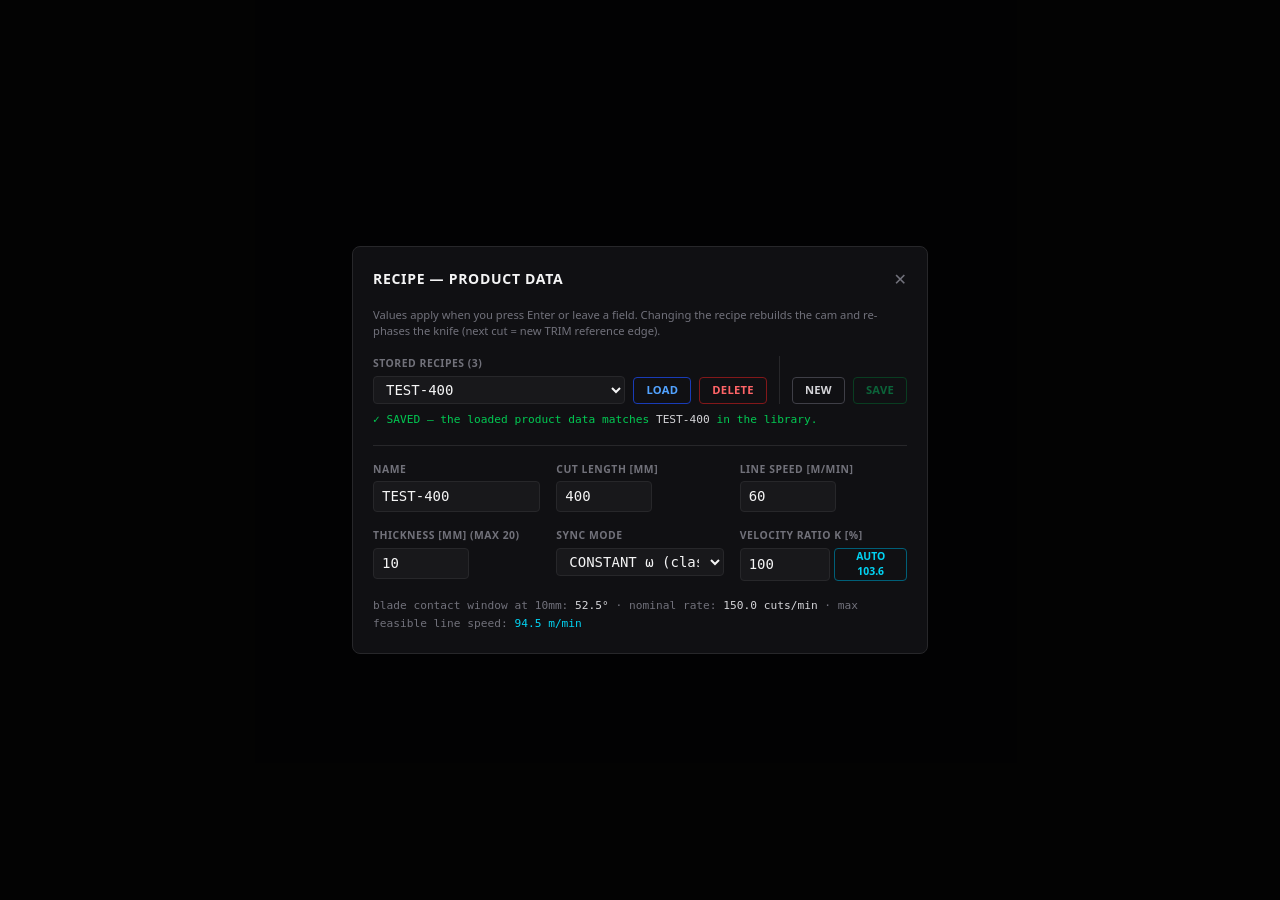
Scenario: recipe editor — the library › NEW twice does not overwrite the first one
The width and height of the screenshot is (1280, 900).
Click the button "New" at (818,390), box [792,377,845,404]
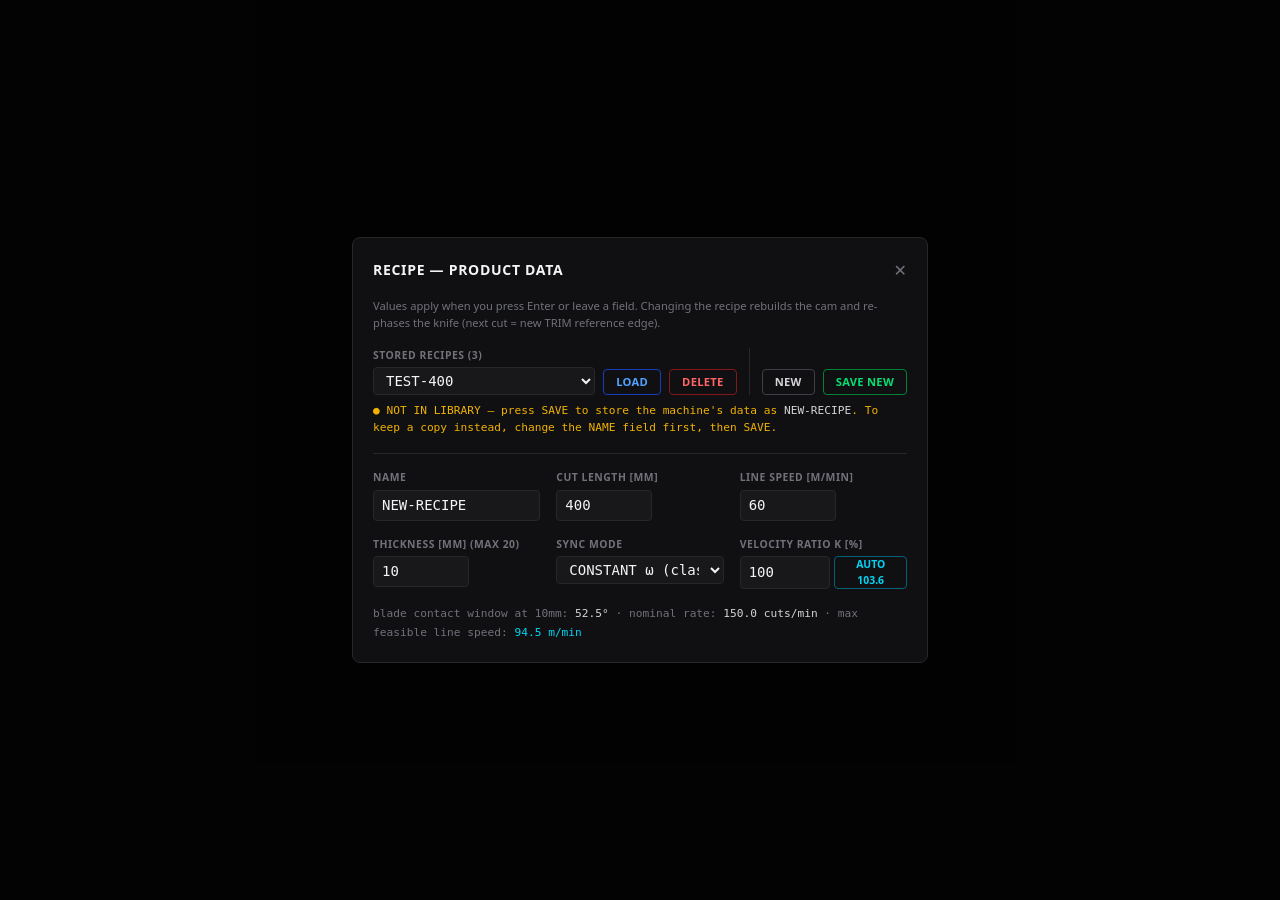
Click the button "Save new" at (865,382), box [823,369,907,395]
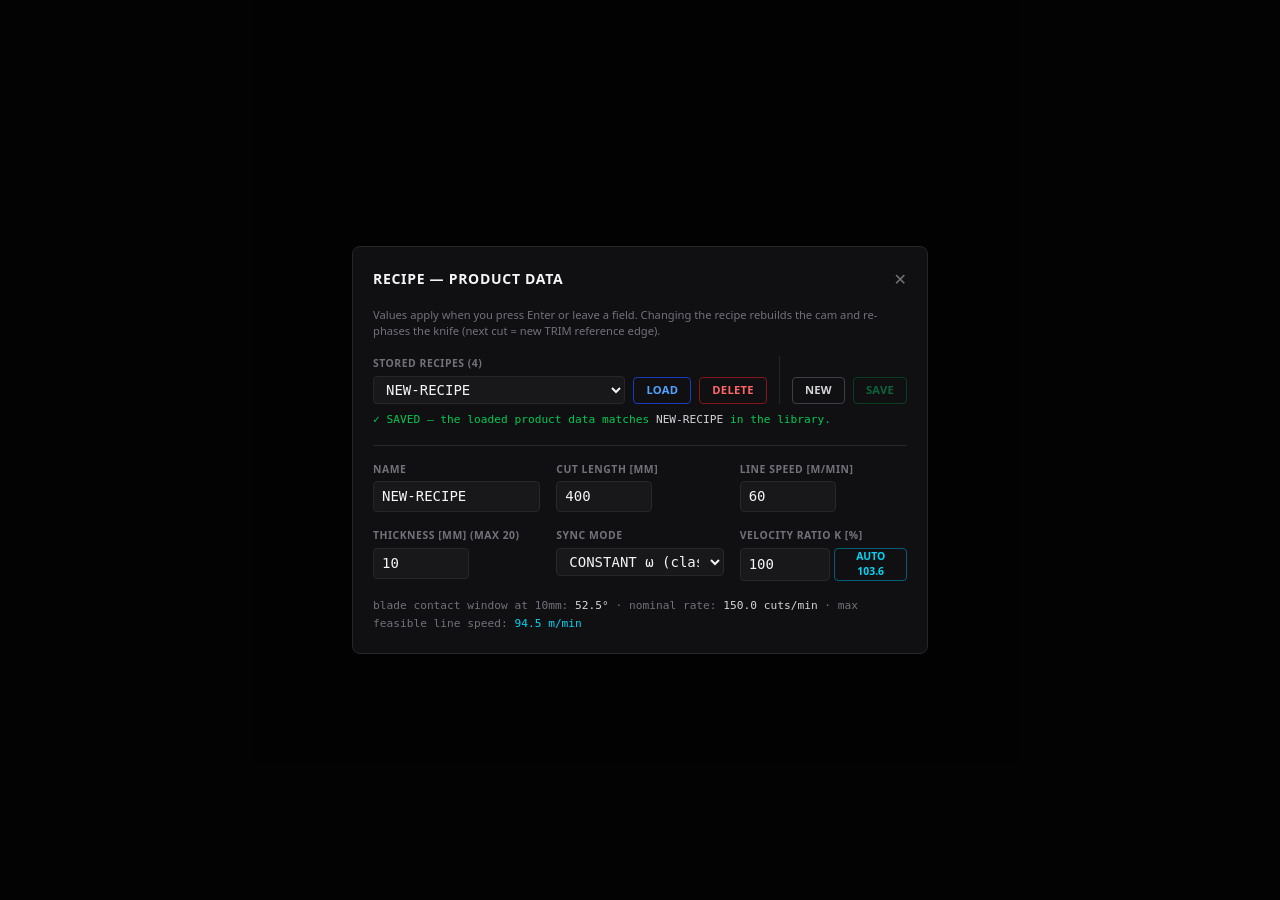
Click the button "New" at (818,390), box [792,377,845,404]
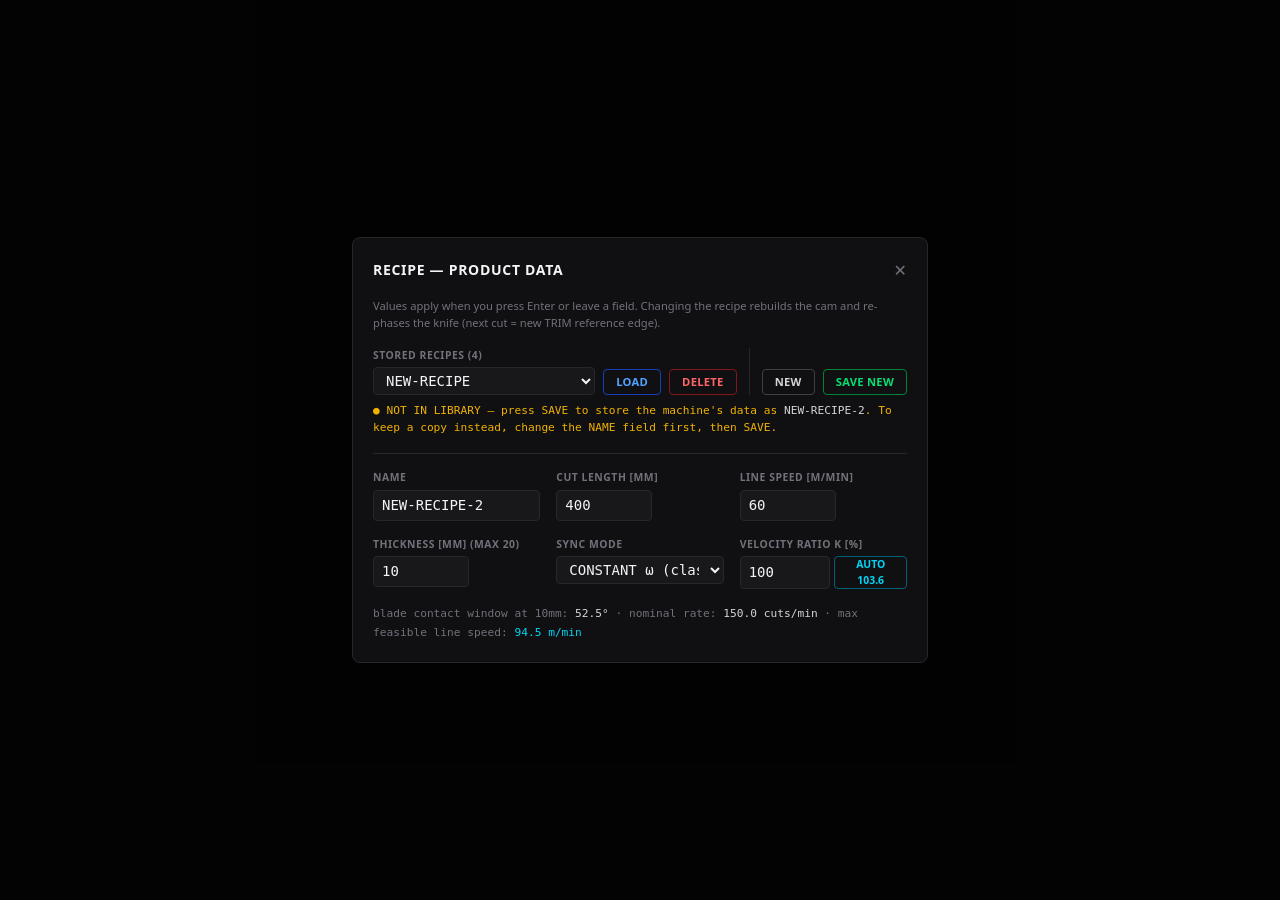
Check: the text "NEW-RECIPE-2" is shown, box [784,404,865,417]
